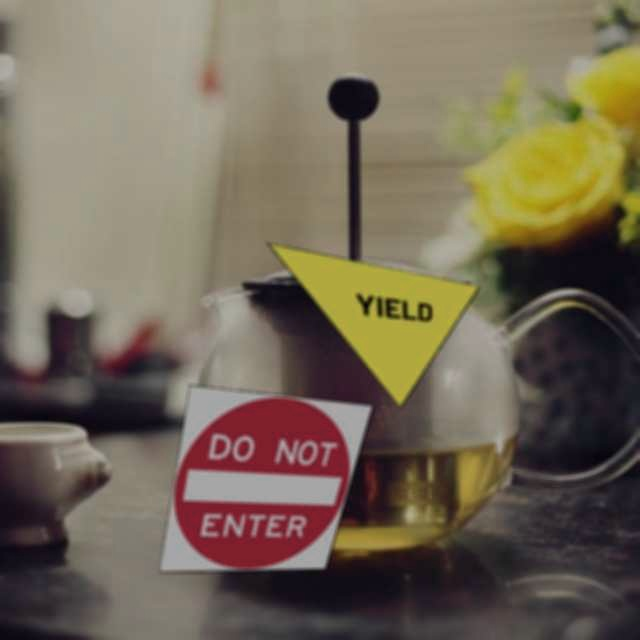DO_NOT_ENTER: (158, 384, 374, 573)
YIELD: (265, 242, 481, 409)
